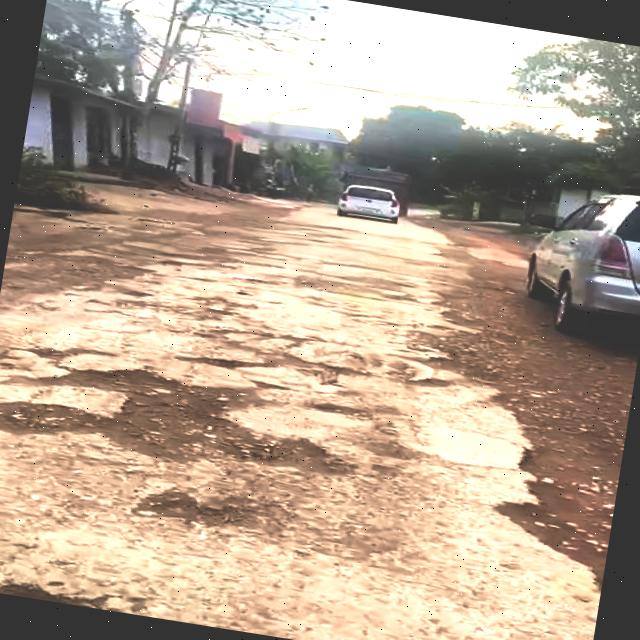pothole: (0, 328, 365, 494), (479, 435, 623, 606), (184, 316, 343, 386), (127, 477, 270, 545), (398, 327, 498, 396), (0, 563, 102, 609)
